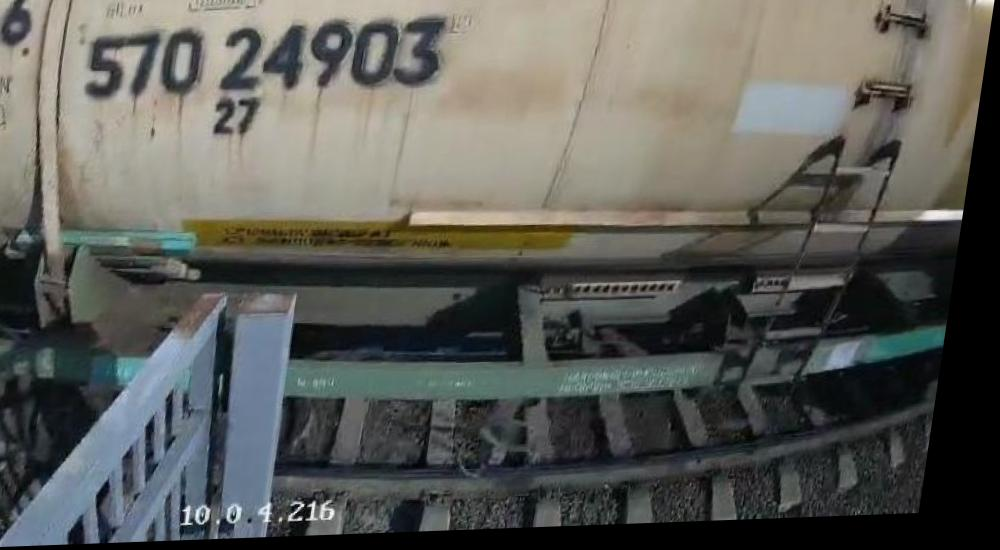Wagon-number: (81, 17, 450, 108)
